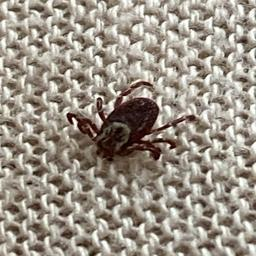Dermacentor variabilis: (67, 80, 196, 160)
